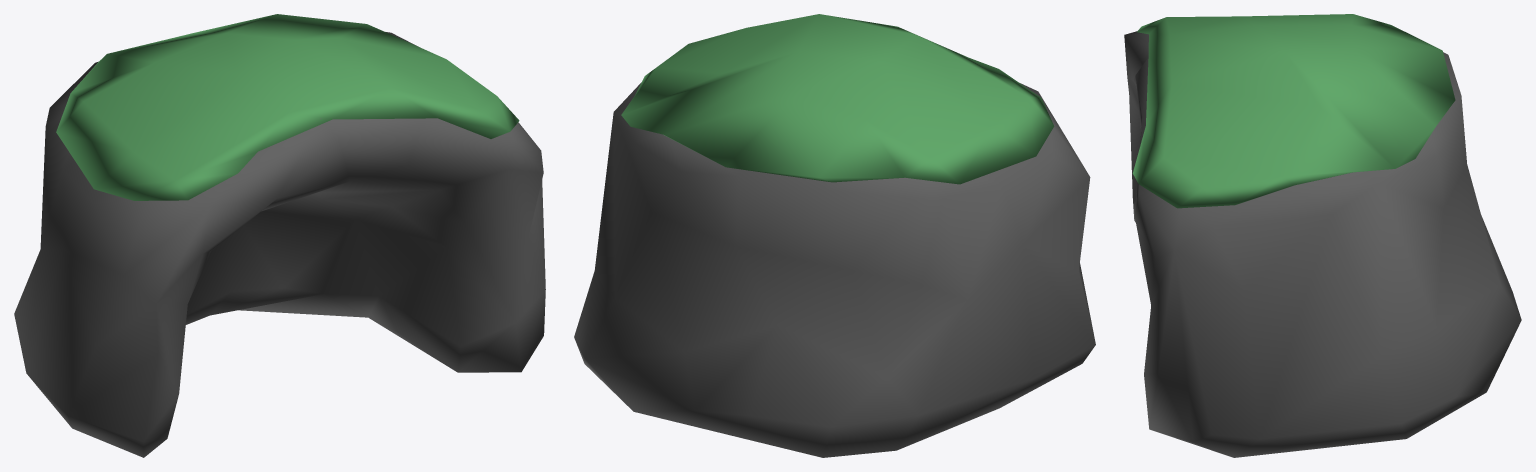
The model's file is SmallCave_LOD.fbx.
The picture shows the model from 3 angles, left to right: view 1: azimuth 30°, elevation 25°; view 2: azimuth 150°, elevation 25°; view 3: azimuth 270°, elevation 25°; orthographic projection. The views are drawn at different scales.
Visible parts, largest first — view 1: Cube.059, Cube.061; view 2: Cube.059, Cube.061; view 3: Cube.059, Cube.061.
Part boxes in pixels (<box>): Cube.059: <box>14,32,545,457</box>; Cube.061: <box>56,14,519,200</box>; Cube.059: <box>574,82,1095,457</box>; Cube.061: <box>621,14,1054,184</box>; Cube.059: <box>1124,31,1521,457</box>; Cube.061: <box>1132,14,1455,208</box>.
Size of the model in its own units: 985 by 635 by 730.
